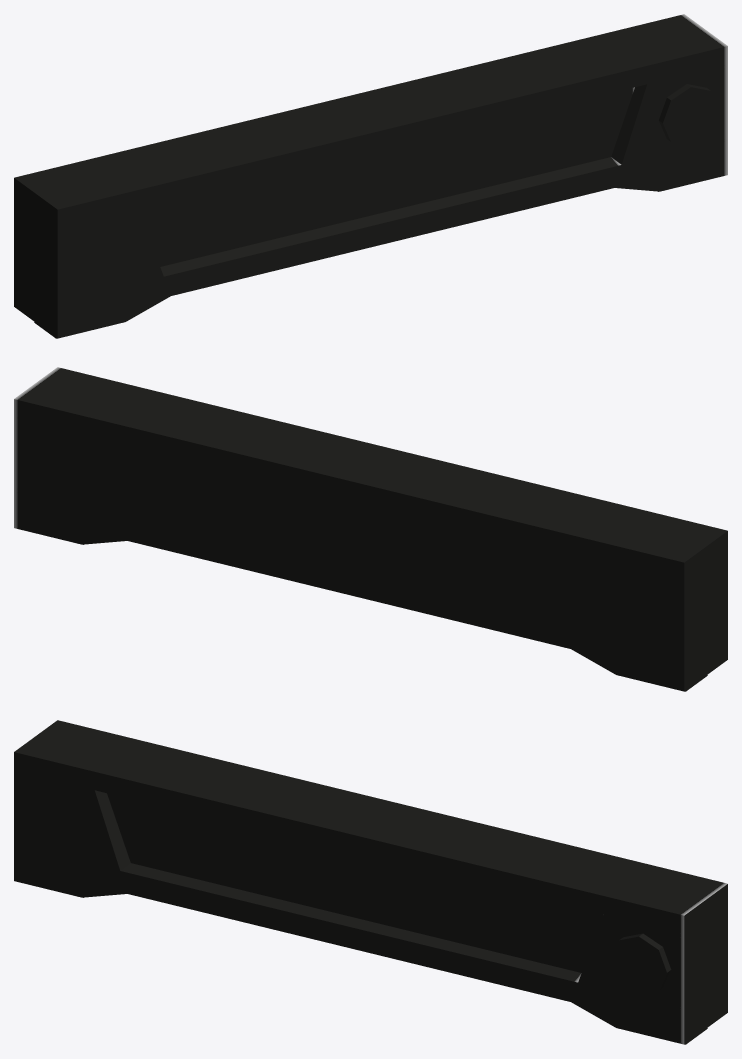
Rendered from multimedia_dvd_speaker.fbx.
3 views of the same model, one above another, from view 1: azimuth 30°, elevation 25°; view 2: azimuth 150°, elevation 25°; view 3: azimuth 330°, elevation 25° (orthographic).
Parts seen in each view (by area): view 1: multimedia_dvd_speaker; view 2: multimedia_dvd_speaker; view 3: multimedia_dvd_speaker.
Part boxes in pixels (bbox=[...]): multimedia_dvd_speaker: bbox=[14, 14, 727, 338]; multimedia_dvd_speaker: bbox=[14, 367, 727, 691]; multimedia_dvd_speaker: bbox=[14, 720, 727, 1044].
Bounding box in the file's own units: 0.00277 × 0.000551 × 0.000343.
Materials: 1 (1 with a texture image).
